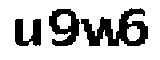6: (119, 2, 151, 47)
9: (49, 7, 80, 48)
u: (7, 17, 42, 51)
w: (78, 16, 121, 48)
